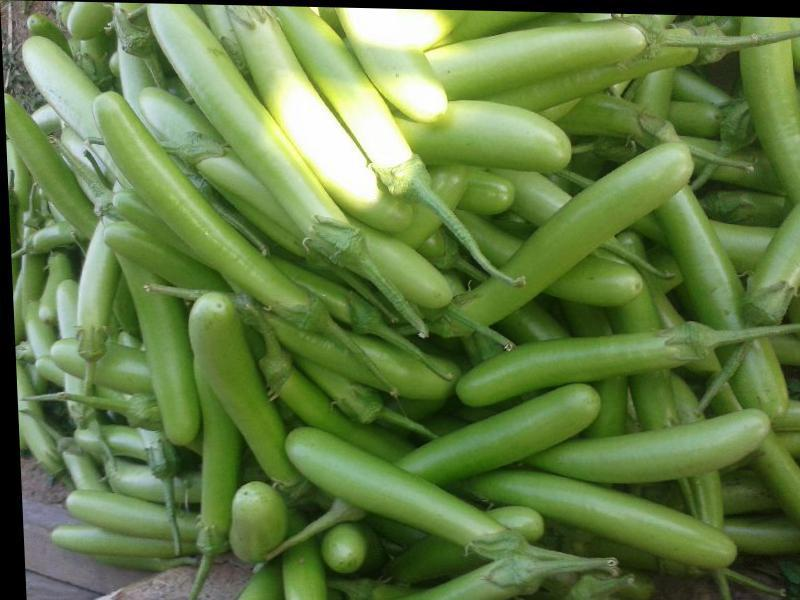eggplant: (51, 63, 799, 555)
